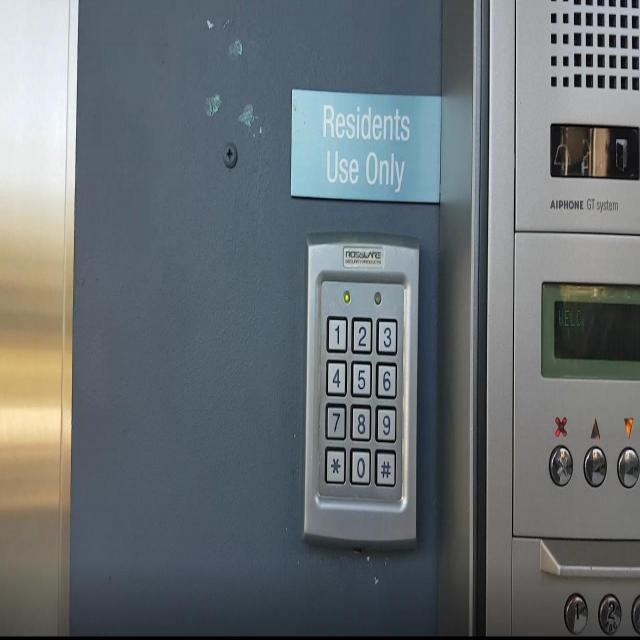0: (347, 444, 372, 486)
1: (561, 588, 590, 638), (324, 311, 348, 355)
2: (595, 588, 623, 639), (349, 313, 374, 355)
3: (374, 314, 398, 356)
4: (324, 354, 349, 397)
5: (348, 356, 373, 399)
6: (373, 357, 398, 400)
7: (323, 399, 348, 441)
8: (348, 400, 373, 442)
9: (372, 401, 398, 444)
empty: (581, 441, 609, 489), (614, 442, 640, 489)
s: (322, 442, 348, 484)
stop: (547, 440, 575, 488)
unknown: (372, 445, 397, 488)
